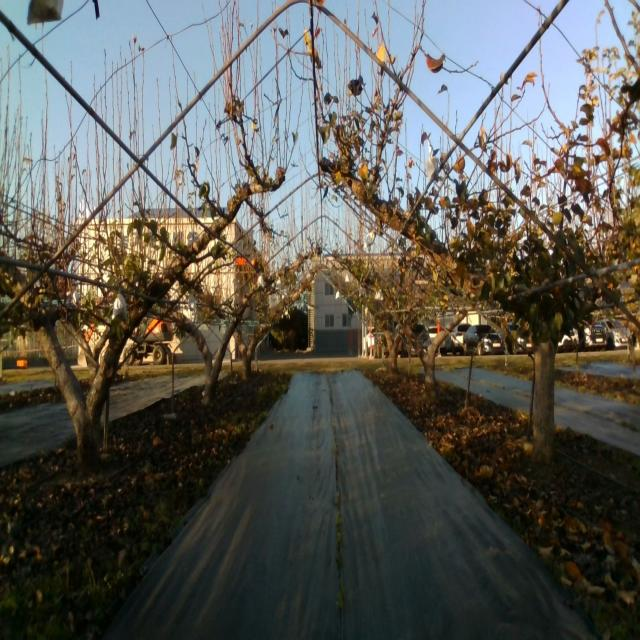pearbags: (26, 0, 64, 25), (112, 293, 128, 322), (424, 155, 440, 182), (364, 230, 375, 248)
